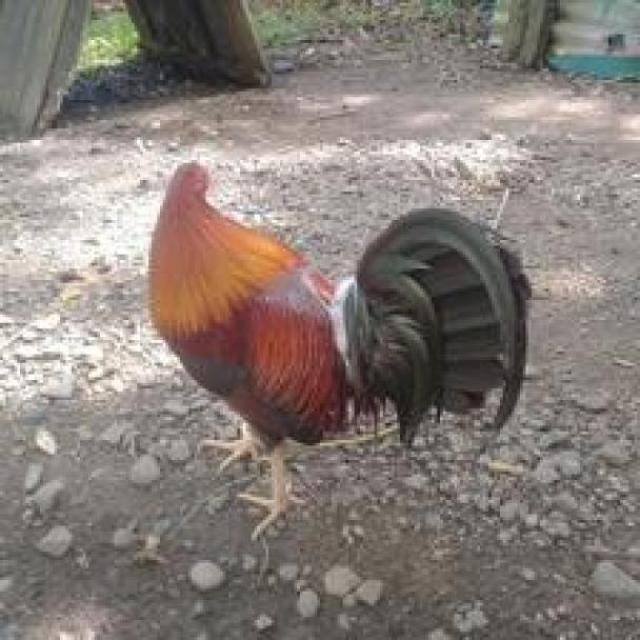Chicken: (109, 136, 567, 549)
